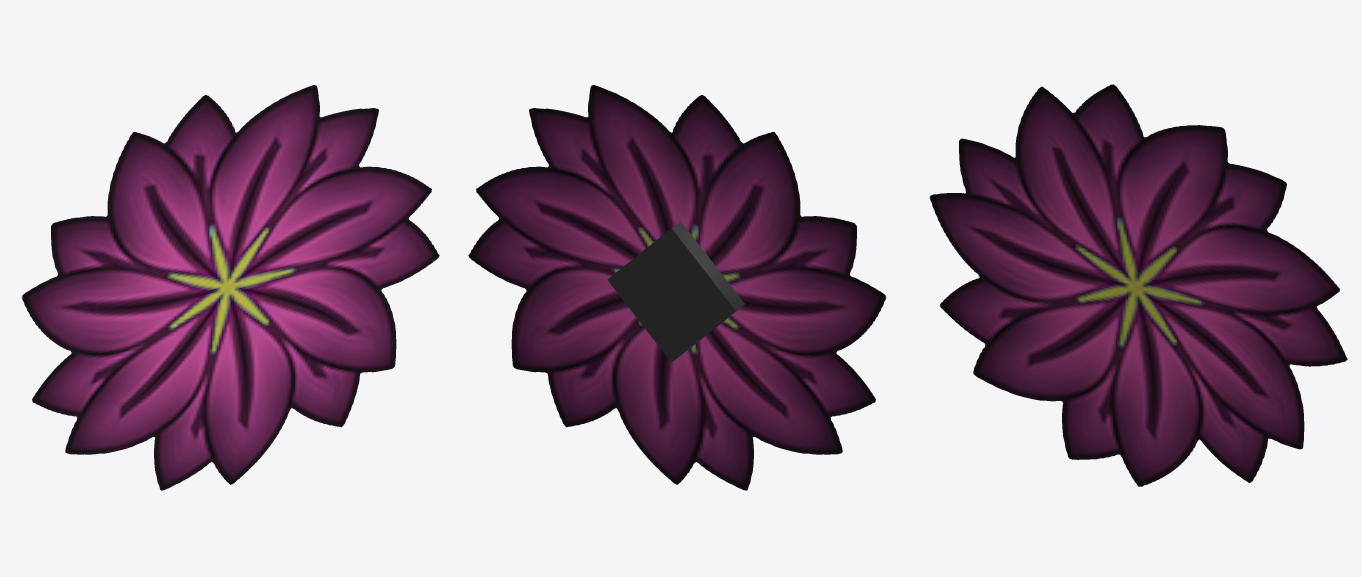
The model's file is Magnet_E.FBX.
3 renders of one model, left to right at view 1: azimuth 30°, elevation 25°; view 2: azimuth 150°, elevation 25°; view 3: azimuth 330°, elevation 25°, orthographic.
Parts seen in each view (by area): view 1: Fridge_Magnet; view 2: Fridge_Magnet; view 3: Fridge_Magnet.
Part boxes in pixels (left/top/right/bottom): Fridge_Magnet: left=21, top=85, right=439, bottom=490; Fridge_Magnet: left=468, top=85, right=886, bottom=490; Fridge_Magnet: left=929, top=84, right=1347, bottom=486.
Bounding box in the file's own units: 25 × 25 × 0.9737.
